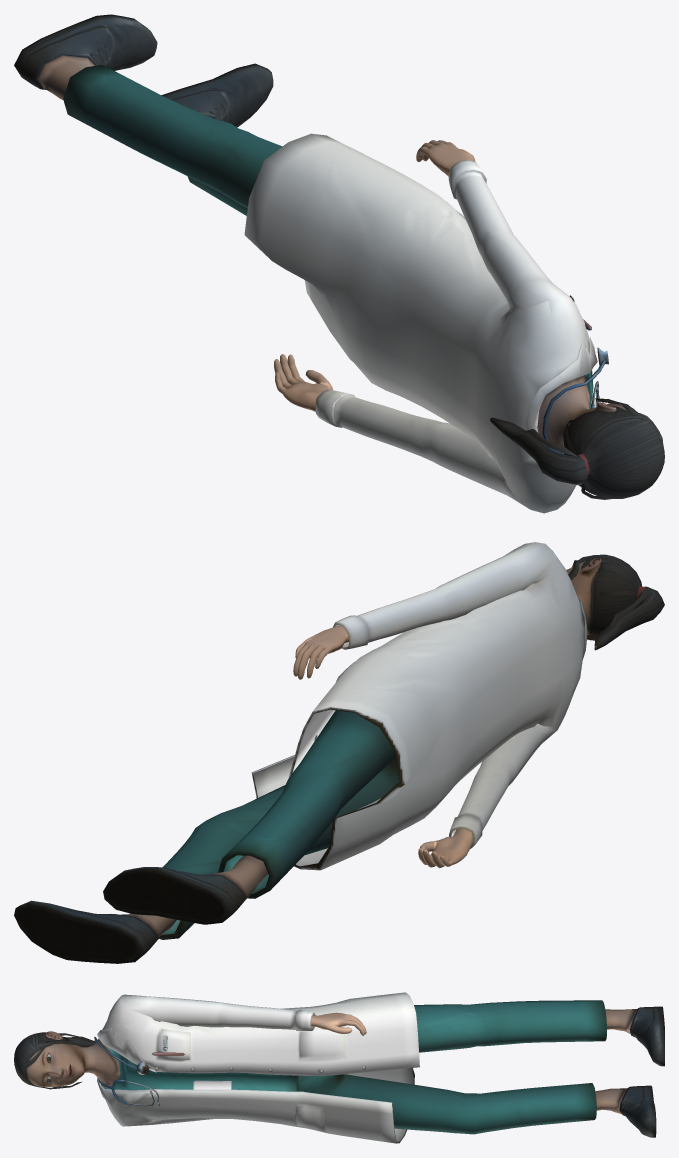
File: walk.obj
3 renders of one model, top to bottom at view 1: azimuth 30°, elevation 25°; view 2: azimuth 150°, elevation 25°; view 3: azimuth 270°, elevation 25°, orthographic. The views are drawn at different scales.
Size of the model in its own units: 0.4646 by 0.3994 by 1.72.
1 material, 1 textured.
